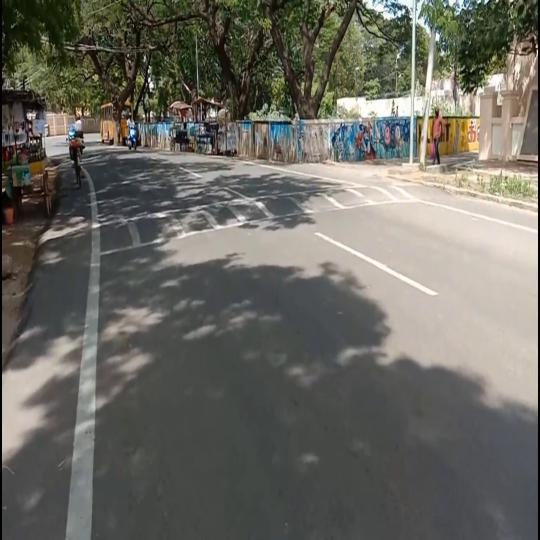Speed Bump: (34, 178, 446, 252)
